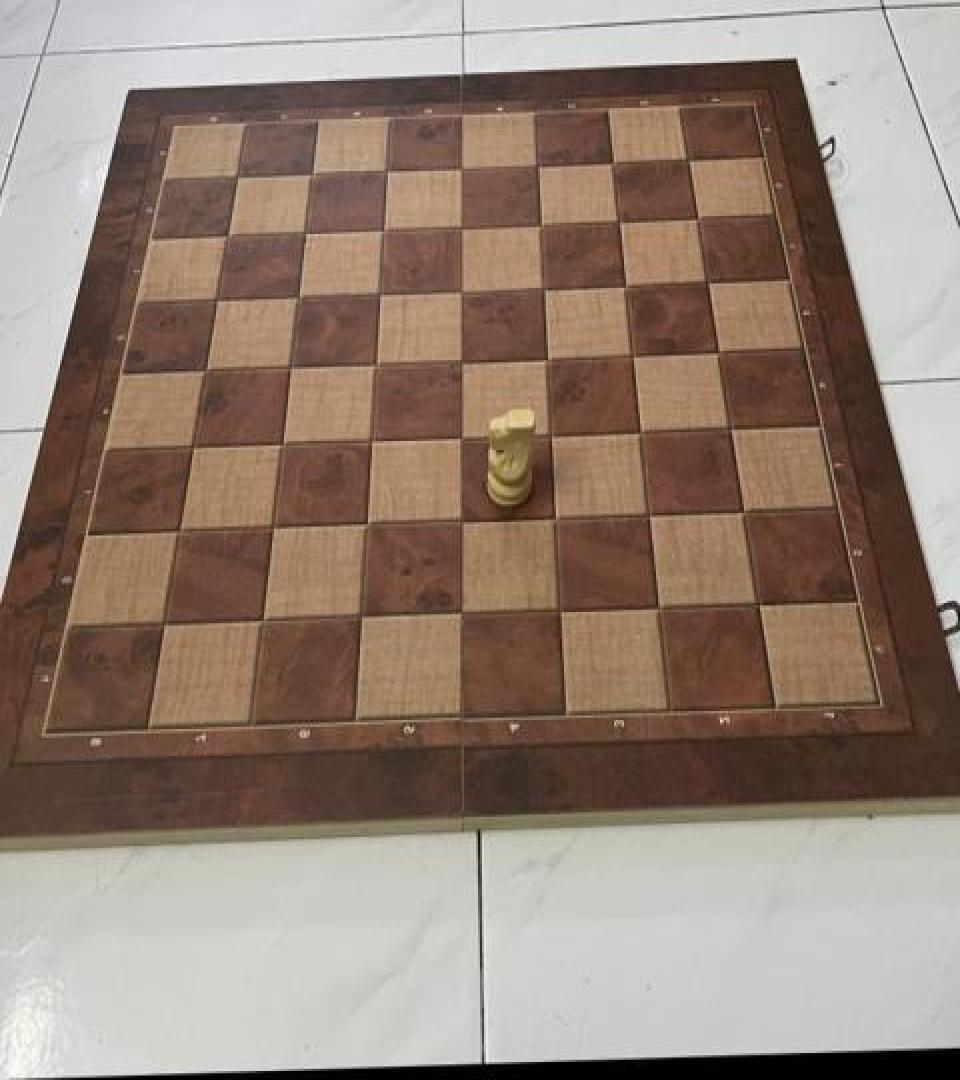xcorner: (221, 155, 255, 194), (669, 139, 703, 178), (600, 200, 634, 239), (362, 272, 396, 311), (354, 418, 388, 457), (295, 153, 329, 191), (370, 150, 404, 188), (444, 148, 478, 186), (519, 144, 553, 182), (594, 142, 628, 180), (211, 214, 245, 252), (288, 212, 322, 250), (366, 208, 400, 246), (444, 206, 478, 244), (522, 204, 556, 242), (678, 198, 712, 236), (200, 278, 234, 316), (281, 276, 315, 314), (444, 270, 478, 308), (525, 267, 559, 305), (606, 264, 640, 302), (688, 261, 722, 299), (189, 348, 223, 386), (273, 346, 307, 384), (358, 342, 392, 380), (443, 340, 477, 378), (528, 336, 562, 374), (613, 334, 647, 372), (699, 331, 733, 369), (176, 424, 210, 462), (265, 422, 299, 460), (443, 416, 477, 454), (532, 413, 566, 451), (621, 410, 655, 448), (711, 408, 745, 446), (162, 510, 196, 548), (255, 506, 289, 544), (348, 503, 382, 541), (442, 501, 476, 539), (536, 498, 570, 536), (630, 494, 664, 532), (724, 492, 758, 530), (146, 603, 180, 641), (244, 600, 278, 638), (343, 596, 377, 634), (442, 594, 476, 632), (540, 591, 574, 629), (639, 588, 673, 626), (739, 584, 773, 622)
